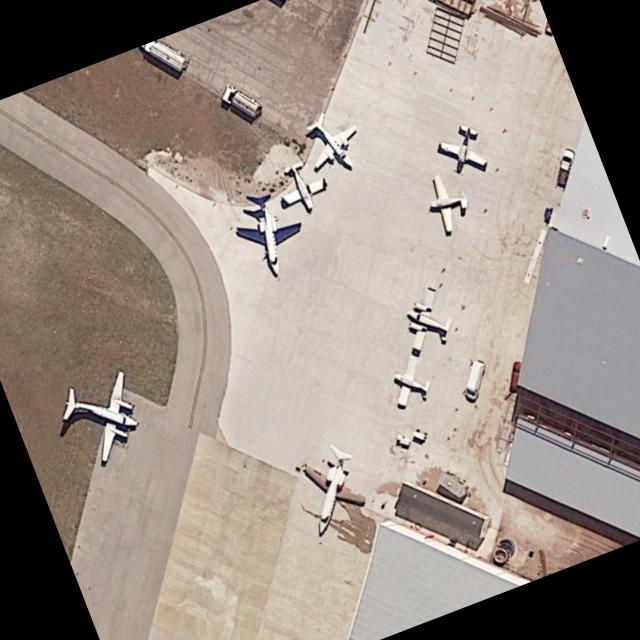large-vehicle: (222, 80, 263, 121), (464, 359, 486, 401), (557, 149, 574, 190)
plane: (54, 351, 145, 472), (286, 432, 374, 552), (291, 96, 373, 190), (233, 200, 312, 283), (401, 281, 460, 361), (271, 154, 334, 218), (387, 351, 437, 417), (422, 173, 474, 235), (437, 118, 495, 172)
small-vehicle: (510, 359, 525, 395)
